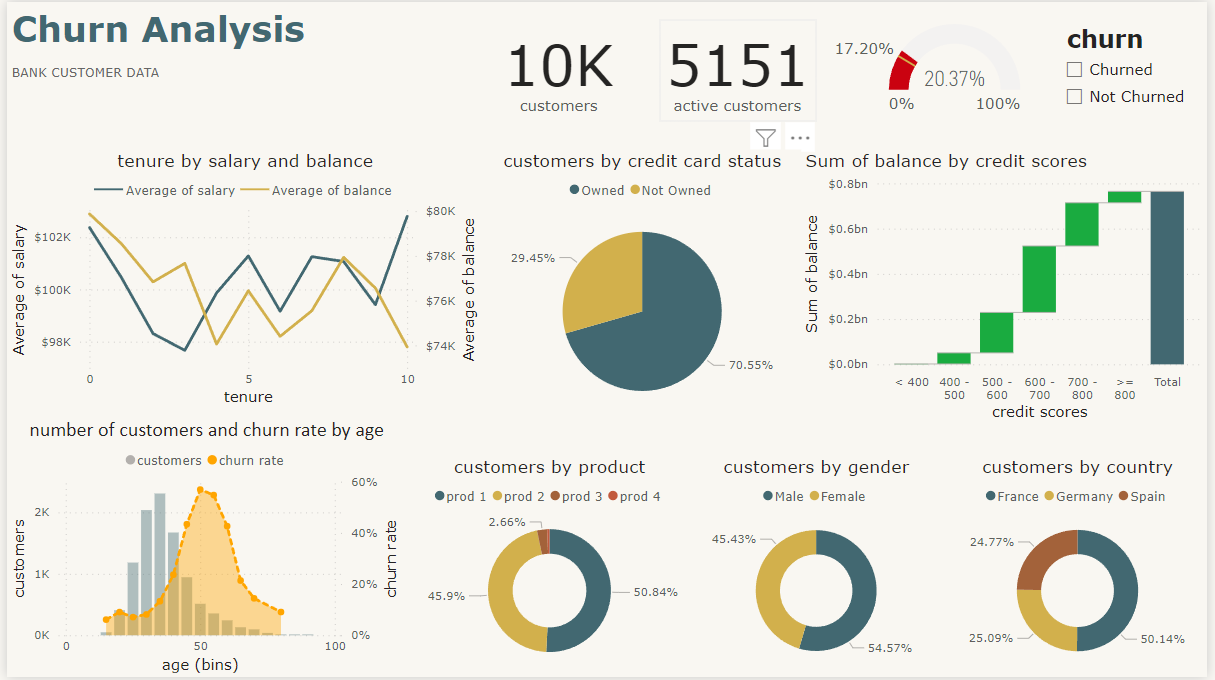

Layout of this report page (visuals, bound fields, positions):
{"tool":"powerbi","page":{"name":"Page 1","canvas":[1280,720],"ordinal":0},"visuals":[{"type":"lineClusteredColumnComboChart","title":"number of customers and churn rate by age","fields":{"Category":["Bank Customer Churn Prediction.age (bins)"],"Y":["Bank Customer Churn Prediction.number of customers"],"Y2":["Bank Customer Churn Prediction.churn rate"]},"box":[0,442.2,425.7,278],"z":0},{"type":"donutChart","title":"customers by country","fields":{"Category":["Bank Customer Churn Prediction.country"],"Y":["Bank Customer Churn Prediction.number of customers"]},"box":[1003.7,484.4,276.1,235.8],"z":1000},{"type":"textbox","box":[0,0,431.2,145.9],"z":2000},{"type":"donutChart","fields":{"Category":["Bank Customer Churn Prediction.gender"],"Y":["Bank Customer Churn Prediction.number of customers"]},"box":[727.5,484.4,270.6,235.8],"z":3000},{"type":"gauge","fields":{"Y":["Bank Customer Churn Prediction.churn rate"],"MinValue":["Bank Customer Churn Prediction.min rate"],"MaxValue":["Bank Customer Churn Prediction.max rate"],"TargetValue":["Bank Customer Churn Prediction.target rate"]},"box":[869.3,18.7,220,109.3],"z":4000},{"type":"card","fields":{"Values":["Bank Customer Churn Prediction.number of customers"]},"box":[500,18.7,177.3,109.3],"z":5000},{"type":"donutChart","fields":{"Category":["Bank Customer Churn Prediction.product"],"Y":["Bank Customer Churn Prediction.customers"]},"box":[431.2,484.4,296.3,235.8],"z":6000},{"type":"waterfallChart","fields":{"Y":["Sum(Bank Customer Churn Prediction.balance)"],"Category":["Bank Customer Churn Prediction (3).credit scores"]},"box":[846.8,157.8,433,293.6],"z":7000},{"type":"slicer","title":"churn","fields":{"Values":["Bank Customer Churn Prediction.churn"]},"box":[1117.3,18.7,146.7,109.3],"z":8000},{"type":"card","fields":{"Values":["Bank Customer Churn Prediction.active customers"]},"box":[696,18.7,166.7,109.3],"z":9000},{"type":"lineChart","title":"tenure by salary and balance","fields":{"Y":["Avg(Bank Customer Churn Prediction.estimated_salary)"],"Y2":["Avg(Bank Customer Churn Prediction.balance)"],"Category":["Bank Customer Churn Prediction.tenure"]},"box":[0,157.8,508.3,278],"z":10000},{"type":"pieChart","fields":{"Y":["Bank Customer Churn Prediction.customers"],"Category":["Bank Customer Churn Prediction.credit card status"]},"box":[508.3,157.8,339.4,293.6],"z":11000}]}

Visuals, with their boxes in screenshot pixels (x1, y1, x2, y2), scaled from the page's 1280x720 canvas onto the 1215x680 screenshot:
"number of customers and churn rate by age" lineClusteredColumnComboChart: l=0, t=418, r=404, b=679
"customers by country" donutChart: l=953, t=457, r=1214, b=679
textbox: l=0, t=0, r=409, b=138
donutChart - Bank Customer Churn Prediction.gender x Bank Customer Churn Prediction.number of customers: l=691, t=457, r=947, b=679
gauge - Bank Customer Churn Prediction.churn rate x Bank Customer Churn Prediction.min rate: l=825, t=18, r=1034, b=121
card - Bank Customer Churn Prediction.number of customers: l=475, t=18, r=643, b=121
donutChart - Bank Customer Churn Prediction.product x Bank Customer Churn Prediction.customers: l=409, t=457, r=691, b=679
waterfallChart - Sum(Bank Customer Churn Prediction.balance) x Bank Customer Churn Prediction (3).credit scores: l=804, t=149, r=1214, b=426
"churn" slicer: l=1061, t=18, r=1200, b=121
card - Bank Customer Churn Prediction.active customers: l=661, t=18, r=819, b=121
"tenure by salary and balance" lineChart: l=0, t=149, r=482, b=412
pieChart - Bank Customer Churn Prediction.customers x Bank Customer Churn Prediction.credit card status: l=482, t=149, r=805, b=426
